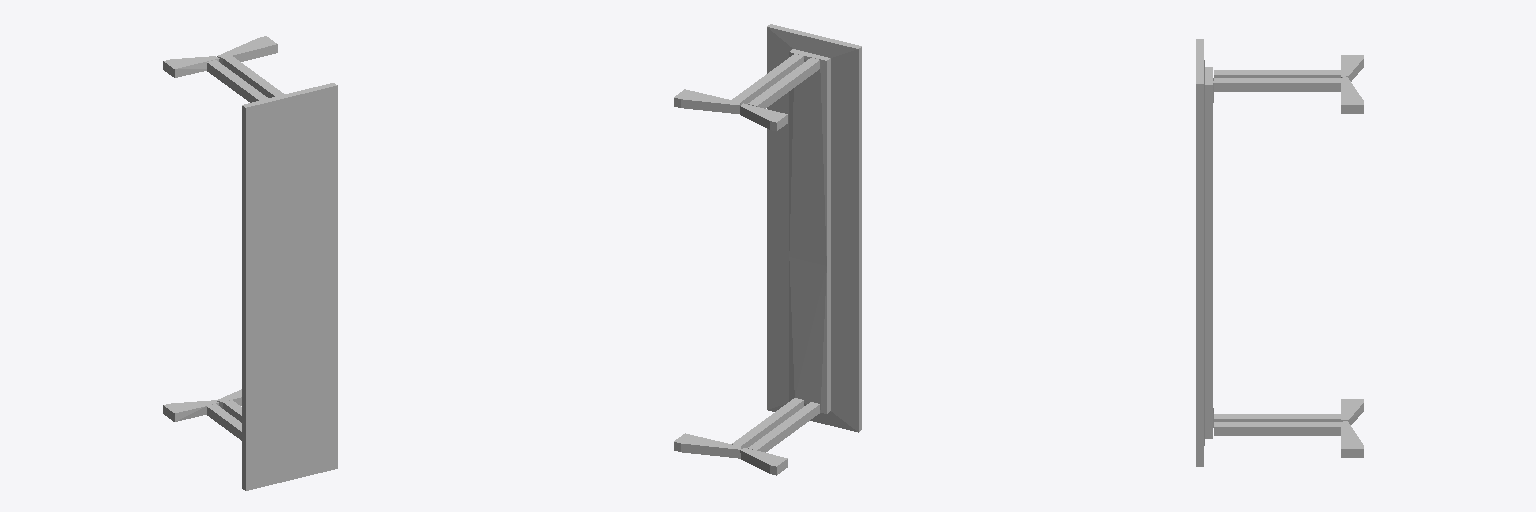
Rendered from lab_table_vhacd.obj.
3 views of the same model, side by side, from view 1: azimuth 30°, elevation 25°; view 2: azimuth 150°, elevation 25°; view 3: azimuth 270°, elevation 25° (orthographic).
Visible parts, largest first — view 1: convex_1, convex_10, convex_9, convex_3, convex_8, convex_4, convex_6; view 2: convex_1, convex_2, convex_0, convex_10, convex_6, convex_5, convex_9, convex_7, convex_3, convex_8, convex_4; view 3: convex_1, convex_2, convex_3, convex_7, convex_0, convex_6, convex_10, convex_9, convex_5.
Part boxes in pixels (x1,y1,x2,y2): convex_1: (242,83,337,490); convex_10: (207,60,267,102); convex_9: (217,36,277,64); convex_3: (223,56,284,97); convex_8: (163,56,219,77); convex_4: (163,400,218,421); convex_6: (207,404,241,440); convex_1: (767,24,861,432); convex_2: (789,49,830,265); convex_0: (789,257,830,413); convex_10: (748,58,819,108); convex_6: (748,402,819,452); convex_5: (674,433,740,458); convex_9: (674,89,740,113); convex_7: (732,398,803,448); convex_3: (732,54,803,104); convex_8: (740,103,787,131); convex_4: (740,448,787,475); convex_1: (1196,39,1204,466); convex_2: (1205,67,1213,290); convex_3: (1214,78,1340,91); convex_7: (1214,422,1340,435); convex_0: (1205,291,1213,438); convex_6: (1214,414,1340,421); convex_10: (1214,70,1340,77); convex_9: (1341,77,1363,113); convex_5: (1341,421,1363,457).
Bounding box in the file's own units: 523 × 1829 × 727.